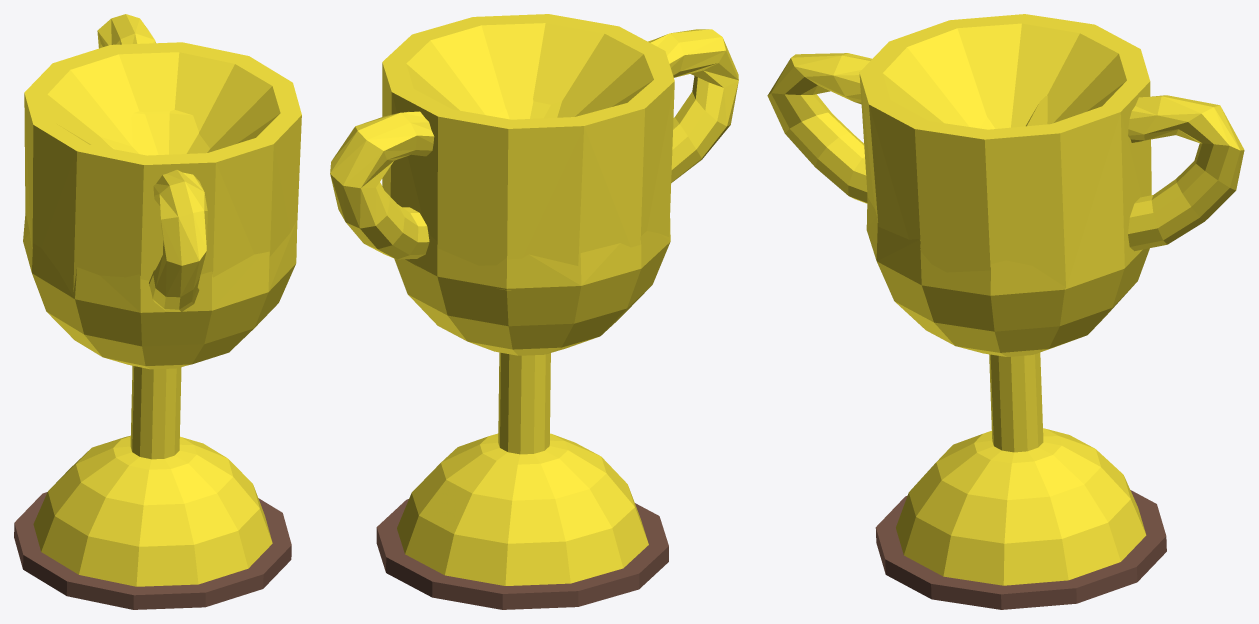
File: trophyCasey.glb
The picture shows the model from 3 angles, left to right: view 1: azimuth 30°, elevation 25°; view 2: azimuth 150°, elevation 25°; view 3: azimuth 270°, elevation 25°; orthographic projection. The views are drawn at different scales.
Parts seen in each view (by area): view 1: group856096890; view 2: group856096890; view 3: group856096890.
Boxes of the visible parts, x1,y1,x2,y2 form: group856096890: (14, 14, 301, 609); group856096890: (330, 14, 738, 609); group856096890: (767, 14, 1244, 609).
Size of the model in its own units: 0.2785 by 0.5024 by 0.4523.
